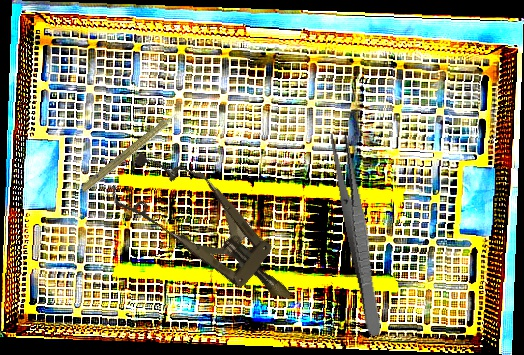Dressing Forceps: (327, 129, 388, 338)
Handpiece: (78, 102, 191, 197)
Speculum: (102, 134, 316, 329)
